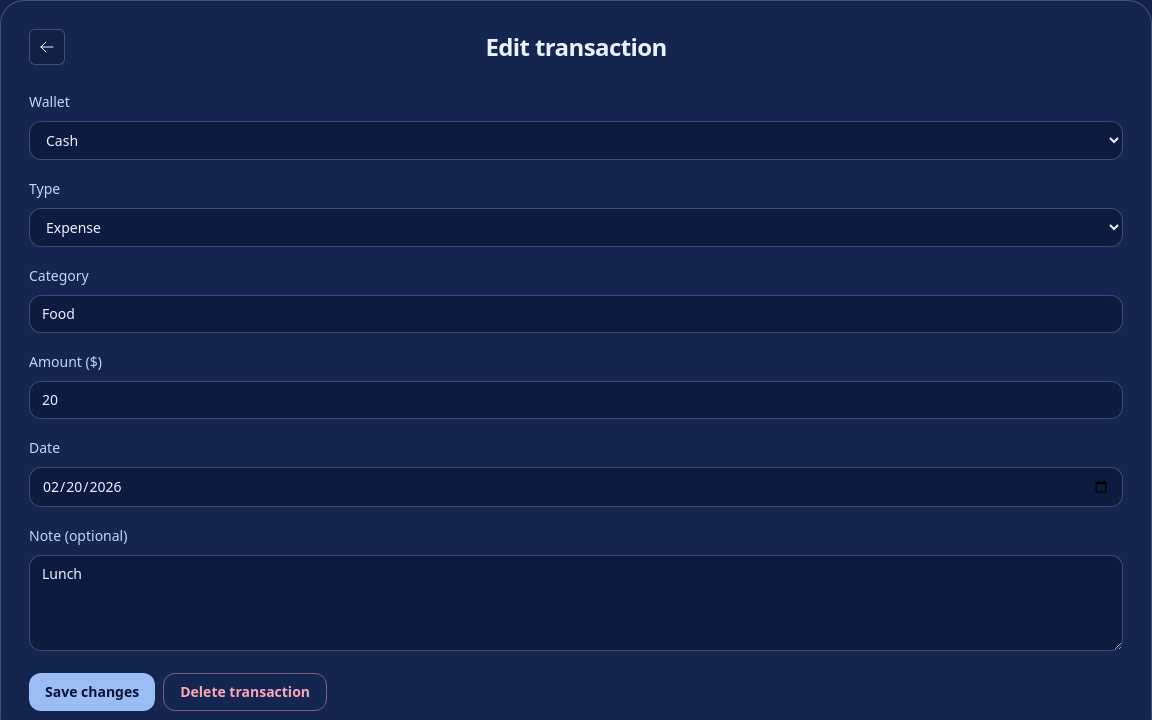
Scenario: TransactionDetailPage › loads and edits income-expense transactions, then refreshes list totals
This screenshot has width=1152, height=720.
Expected: the heading "Edit transaction" is shown, [485,30,667,63]
Expected: the dropdown labelled "Wallet" shows "Cash", [29,121,1123,160]
Step 1. Replace the text in the field labelled "Amount ($)" with "10.00" → (576, 400), box [29,381,1123,419]
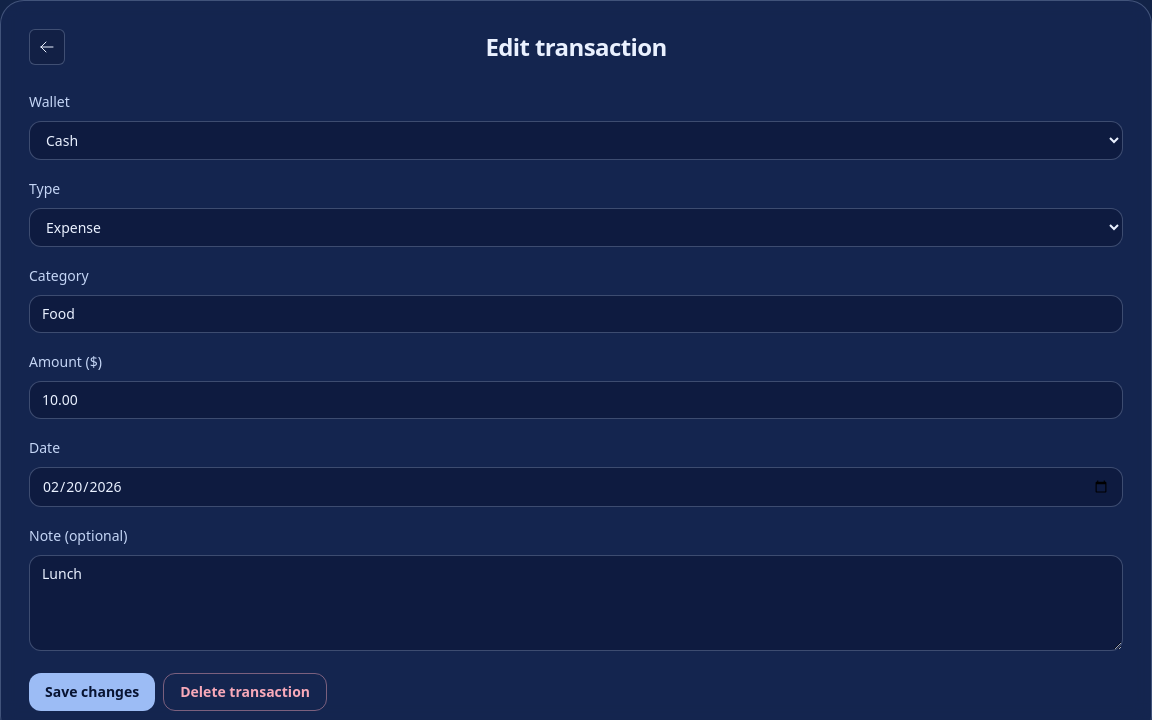
Step 2. Replace the text in the field labelled "Category" with "Groceries" → (576, 314), box [29,295,1123,333]
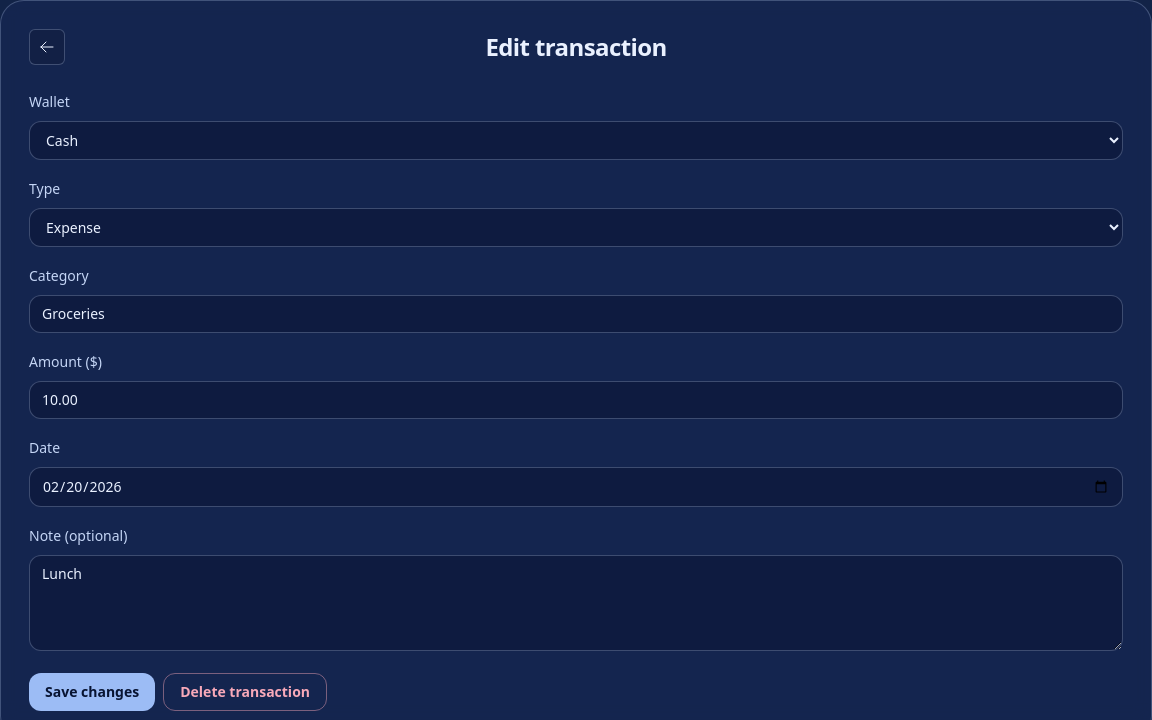
Step 3. Type "2026-02-21" into the date field labelled "Date" → (576, 487), box [29,467,1123,507]
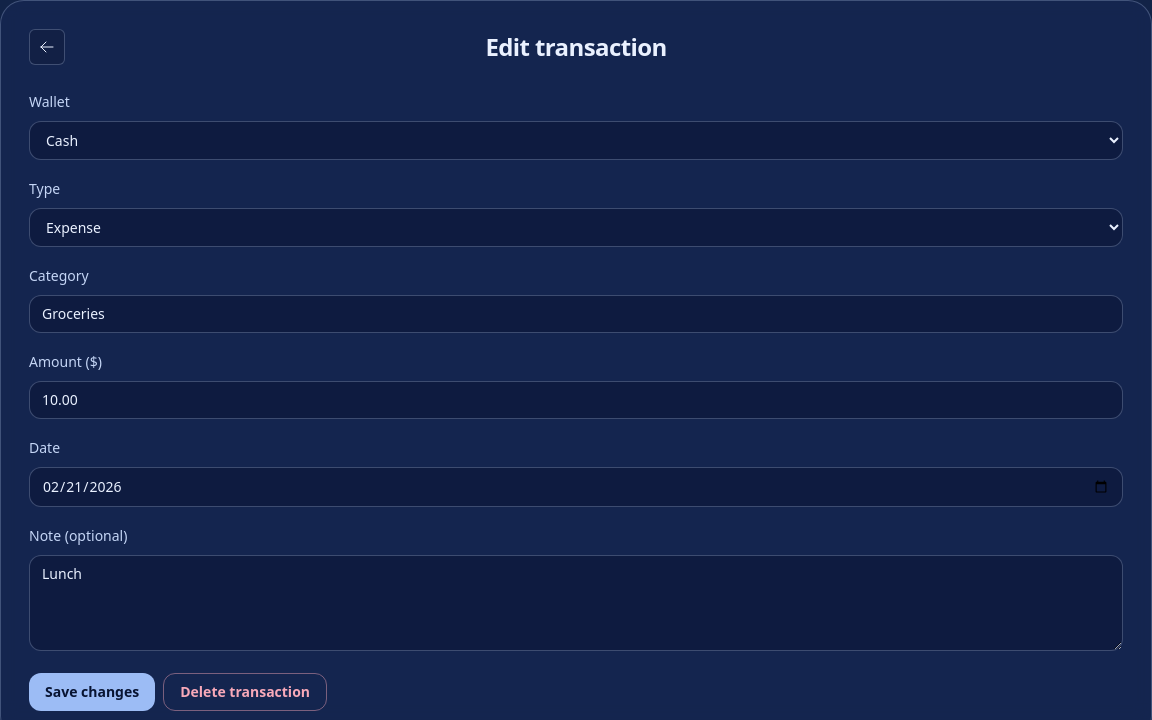
Step 4. Click the button "Save changes" → click(92, 692), box [29,673,155,711]
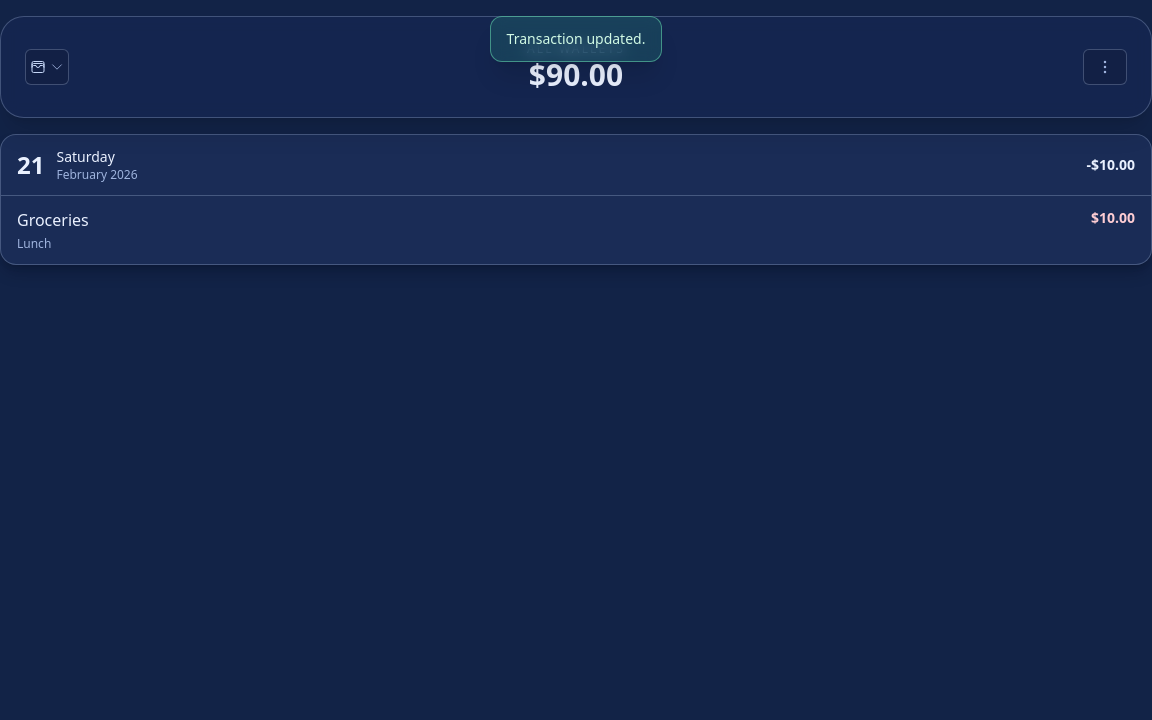
Expected: the text "Transaction updated." is shown, [490,16,662,62]
Expected: the text "$90.00" is shown, [529,54,623,95]
Expected: the text "Groceries" is shown, [17,208,89,232]
